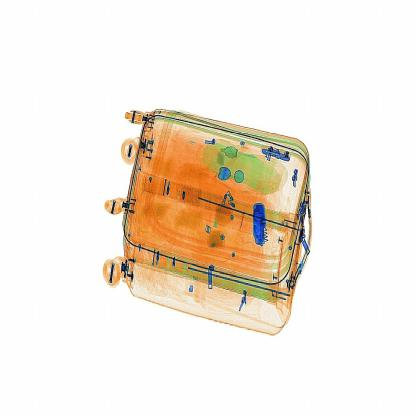scissors: (245, 196, 274, 250)
